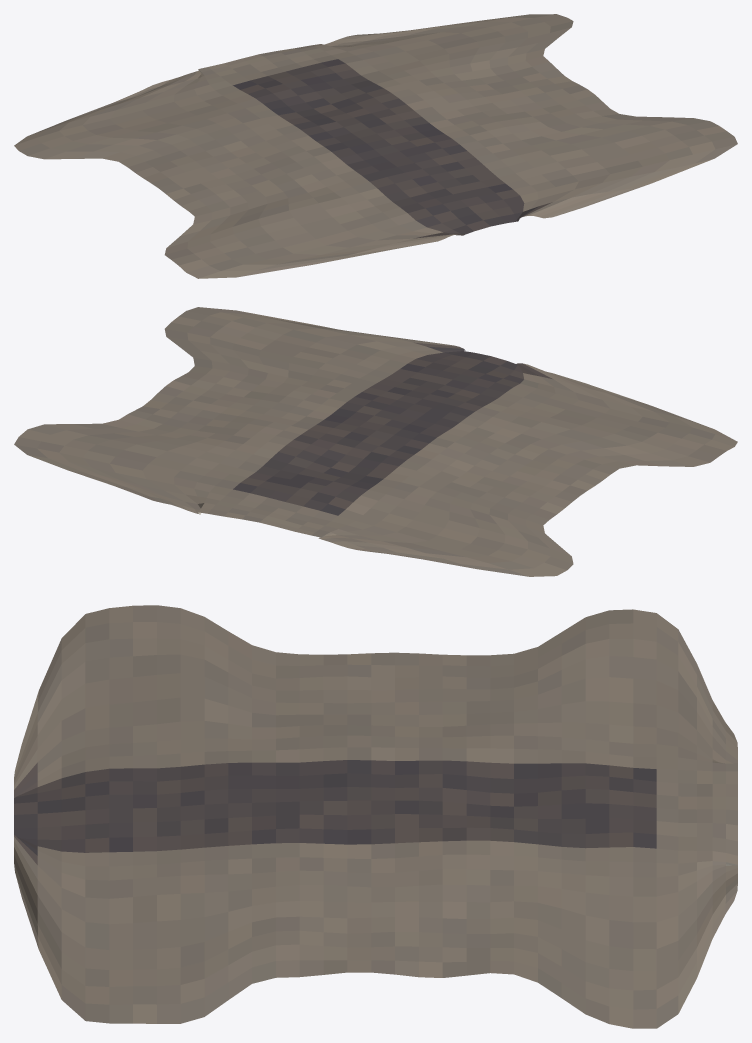
File: Wolf_Pelt.glb
3 renders of one model, top to bottom at view 1: azimuth 30°, elevation 25°; view 2: azimuth 150°, elevation 25°; view 3: azimuth 270°, elevation 25°, orthographic. The views are drawn at different scales.
Parts seen in each view (by area): view 1: WolfPelt; view 2: WolfPelt; view 3: WolfPelt.
Part boxes in pixels (x1,y1,x2,y2): WolfPelt: (14,14,737,278); WolfPelt: (14,307,737,576); WolfPelt: (14,605,737,1028).
Bounding box in the file's own units: 1.17 × 0.032 × 0.855.
